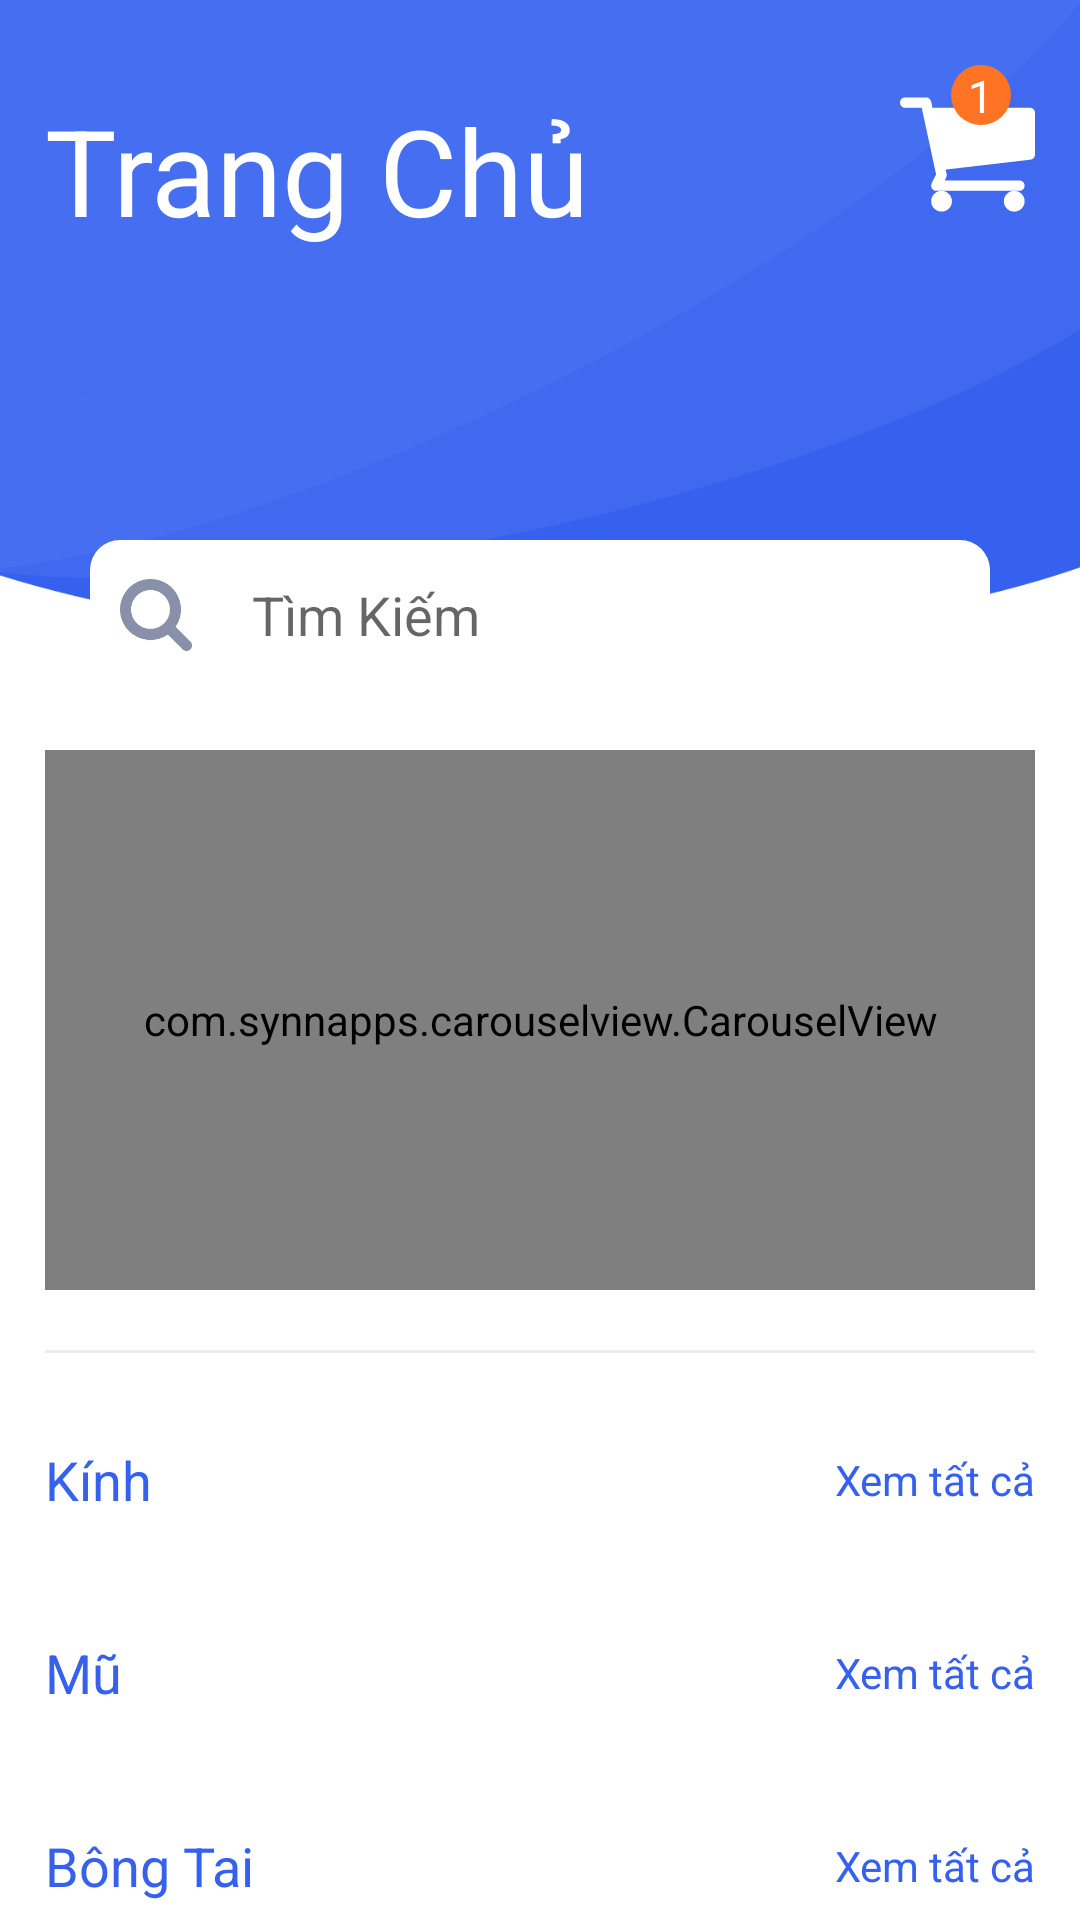

Named icons in this screenshot (1080x1920) and their centers, point (x, y):
shopping cart: point (967, 149)
